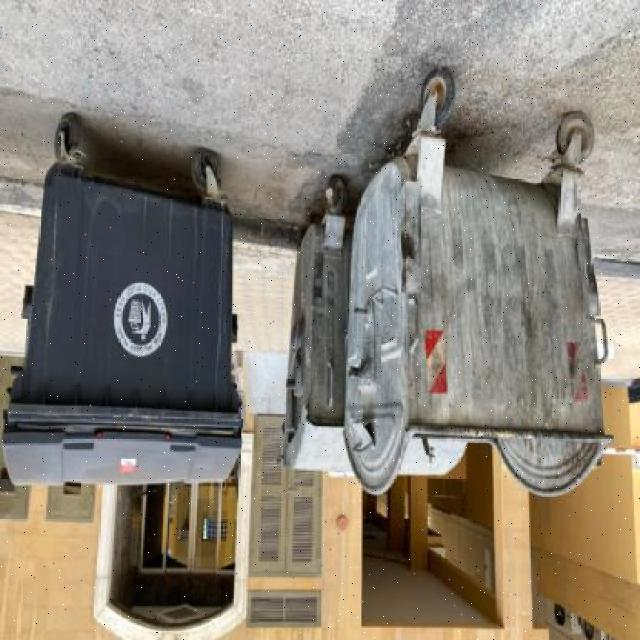garbage container: (2, 101, 251, 497)
